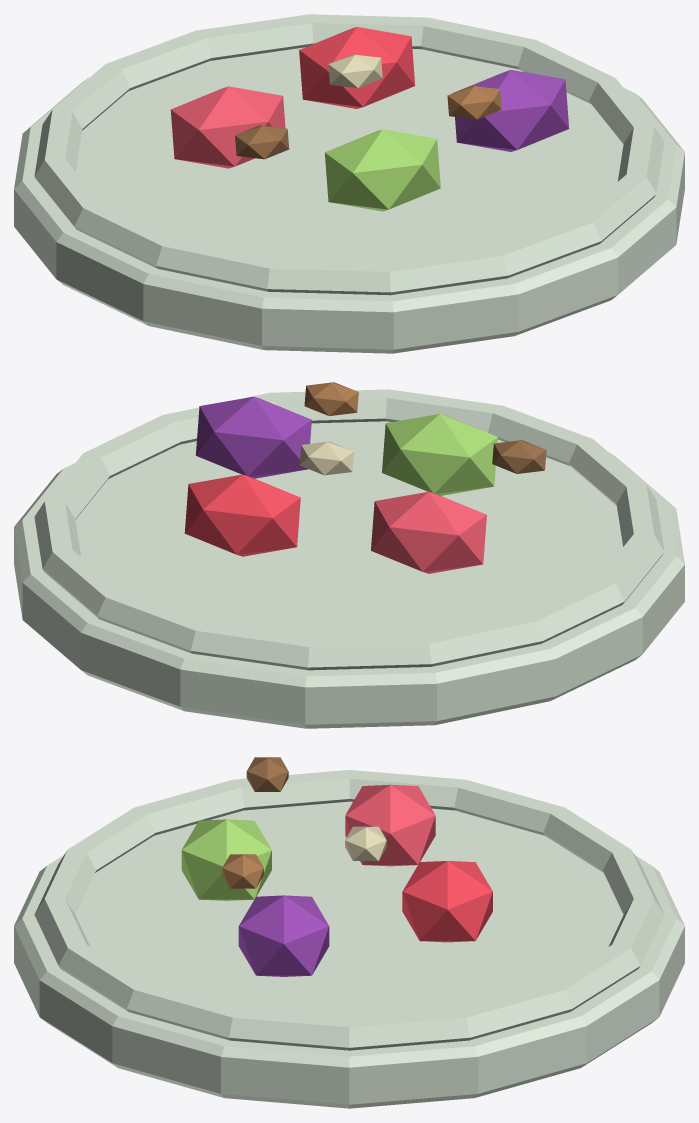
File: nut_fruit_salad.glb
The picture shows the model from 3 angles, top to bottom: view 1: azimuth 30°, elevation 25°; view 2: azimuth 150°, elevation 25°; view 3: azimuth 270°, elevation 25°; orthographic projection.
Visible parts, largest first — view 1: FTF_Dish_NutFruitSalad_StaticMesh; view 2: FTF_Dish_NutFruitSalad_StaticMesh; view 3: FTF_Dish_NutFruitSalad_StaticMesh.
Boxes of the visible parts, box(x1,y1,x2,y2) form: FTF_Dish_NutFruitSalad_StaticMesh: box(14, 14, 684, 353); FTF_Dish_NutFruitSalad_StaticMesh: box(14, 382, 684, 728); FTF_Dish_NutFruitSalad_StaticMesh: box(14, 757, 684, 1108).
Bounding box in the file's own units: 0.82 × 0.202 × 0.82.
